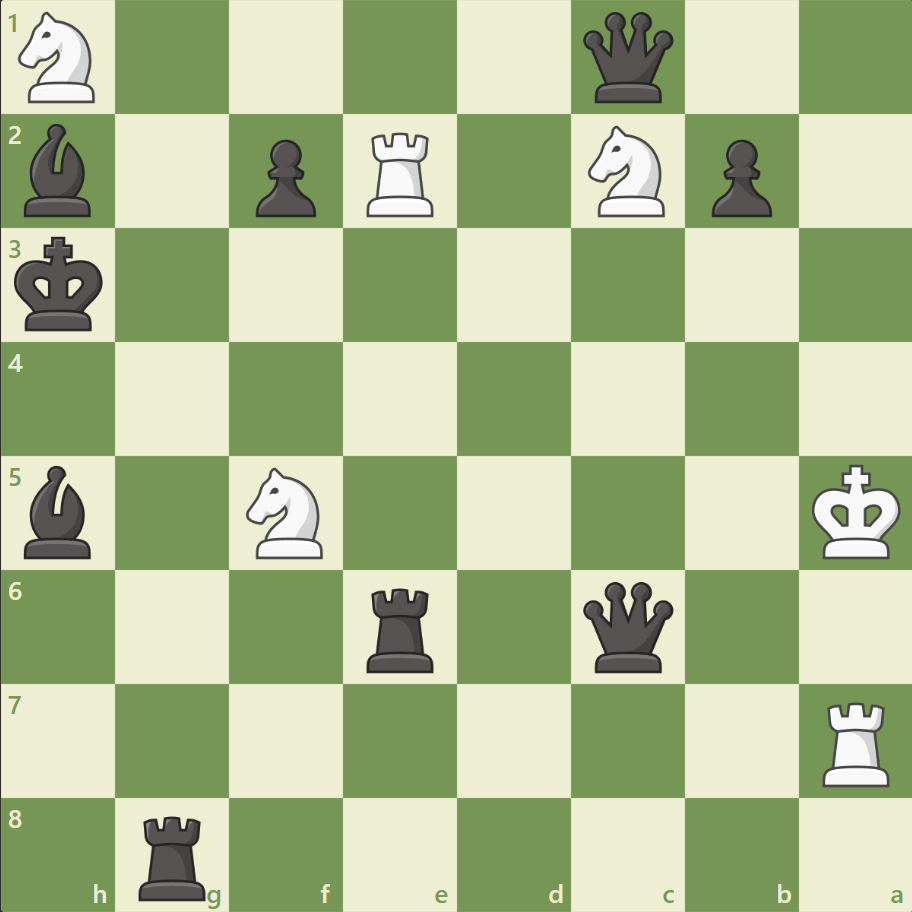K: (806, 458, 906, 566)
N: (238, 461, 335, 564), (11, 7, 108, 110), (579, 121, 676, 223)
R: (814, 693, 897, 790), (360, 125, 442, 222)
b: (17, 460, 101, 563), (17, 120, 101, 222)
k: (11, 231, 111, 339)
p: (701, 132, 776, 223), (247, 132, 322, 223)
q: (578, 576, 677, 676), (578, 9, 677, 108)
r: (133, 806, 215, 904), (360, 579, 442, 676)
